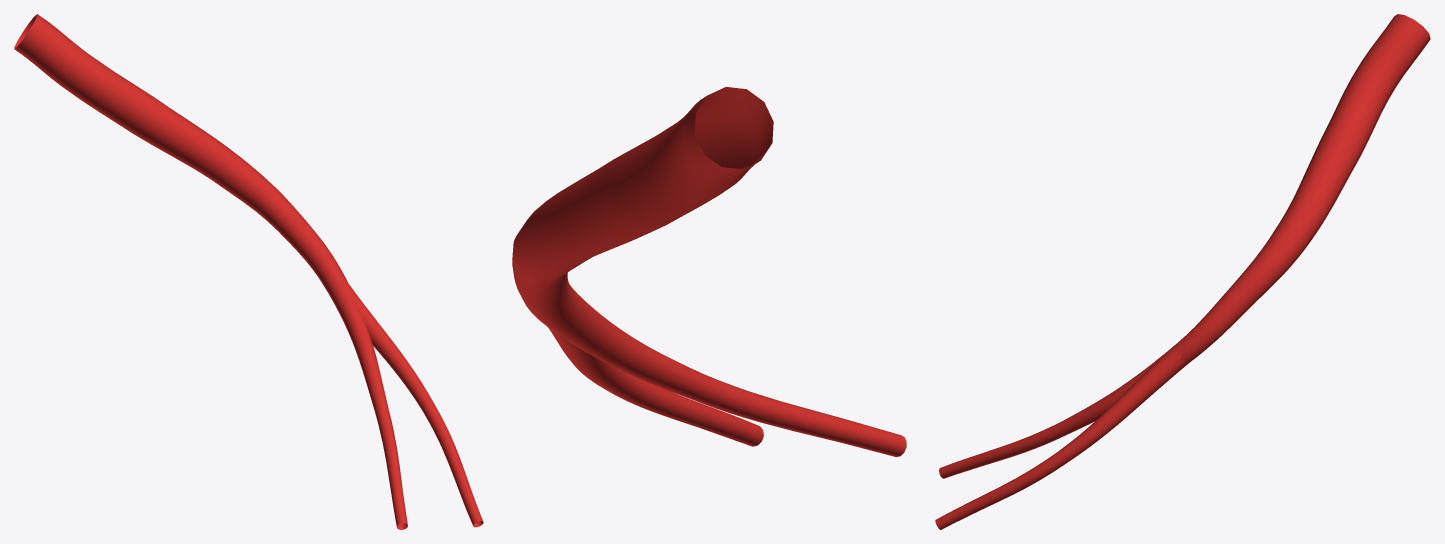
The model's file is circulatorio-inferior-lingular-vein-of-left-lung.glb.
The picture shows the model from 3 angles, left to right: view 1: azimuth 30°, elevation 25°; view 2: azimuth 150°, elevation 25°; view 3: azimuth 270°, elevation 25°; orthographic projection. The views are drawn at different scales.
Visible parts, largest first — view 1: Inferior lingular vein of left lung; view 2: Inferior lingular vein of left lung; view 3: Inferior lingular vein of left lung.
Part boxes in pixels (x1,y1,x2,y2): Inferior lingular vein of left lung: [14, 14, 483, 529]; Inferior lingular vein of left lung: [512, 87, 906, 456]; Inferior lingular vein of left lung: [935, 14, 1430, 529].
Bounding box in the file's own units: 0.0413 × 0.0622 × 0.0686.
